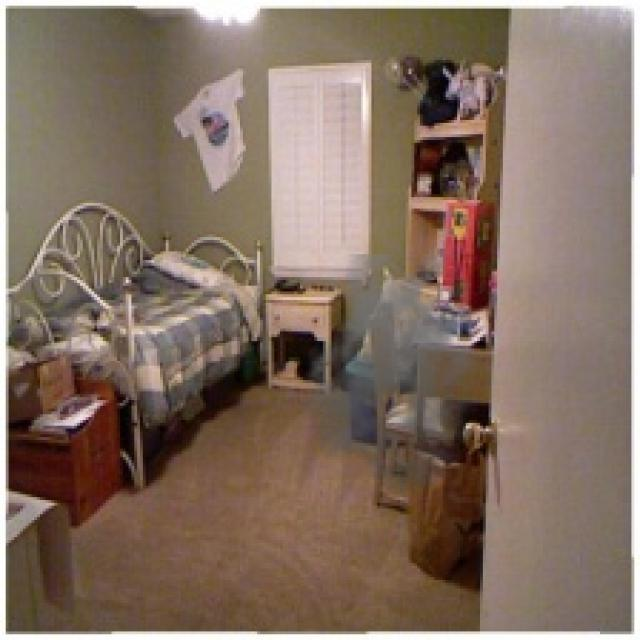smoke: (297, 255, 500, 494)
